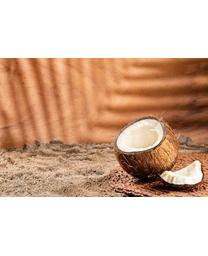coconut: (114, 116, 180, 179)
